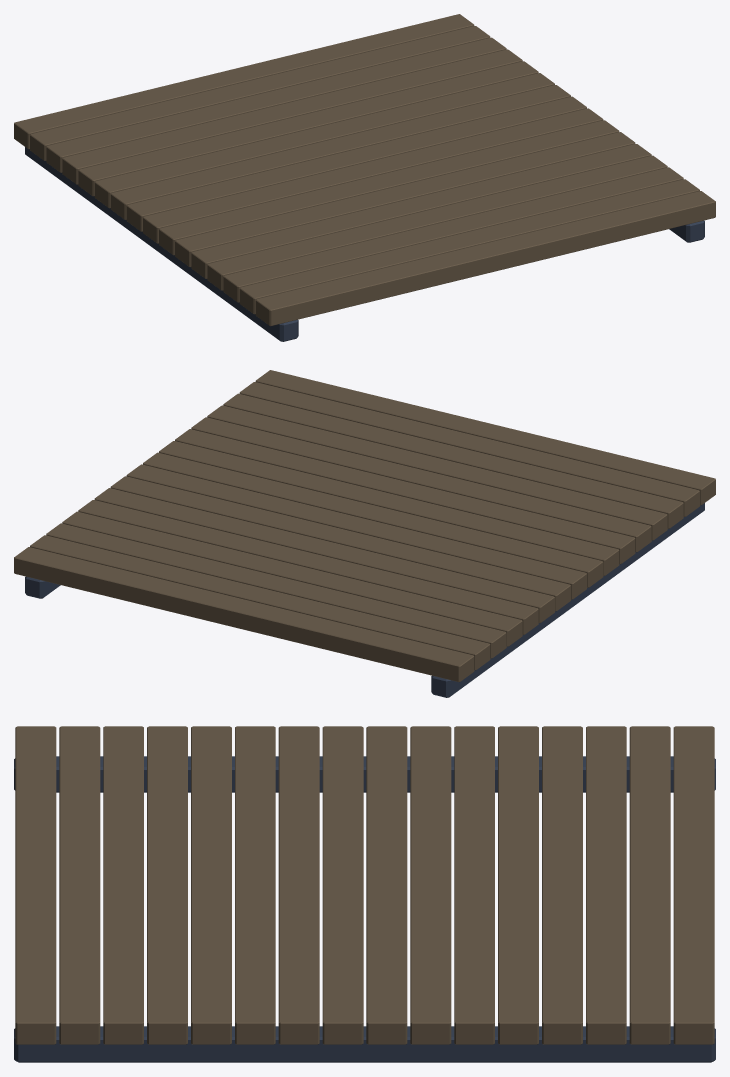
Rendered from bridge-wide.glb.
The picture shows the model from 3 angles, top to bottom: view 1: azimuth 30°, elevation 25°; view 2: azimuth 150°, elevation 25°; view 3: azimuth 270°, elevation 25°; orthographic projection. The views are drawn at different scales.
Parts seen in each view (by area): view 1: bridge-wide__body; view 2: bridge-wide__body; view 3: bridge-wide__body.
Boxes of the visible parts, x1,y1,x2,y2 form: bridge-wide__body: (14, 14, 715, 341); bridge-wide__body: (14, 370, 715, 697); bridge-wide__body: (14, 726, 715, 1062).
Size of the model in its own units: 4 by 0.3 by 4.
